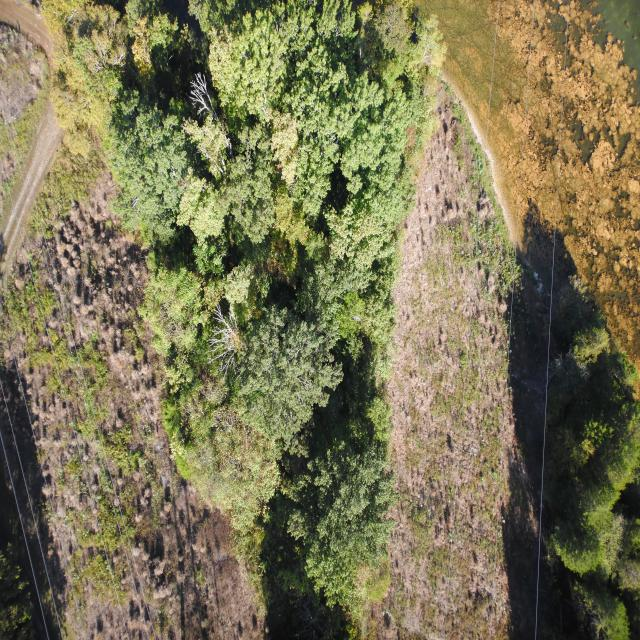Area of Interest: (110, 5, 419, 614), (559, 323, 640, 629)
